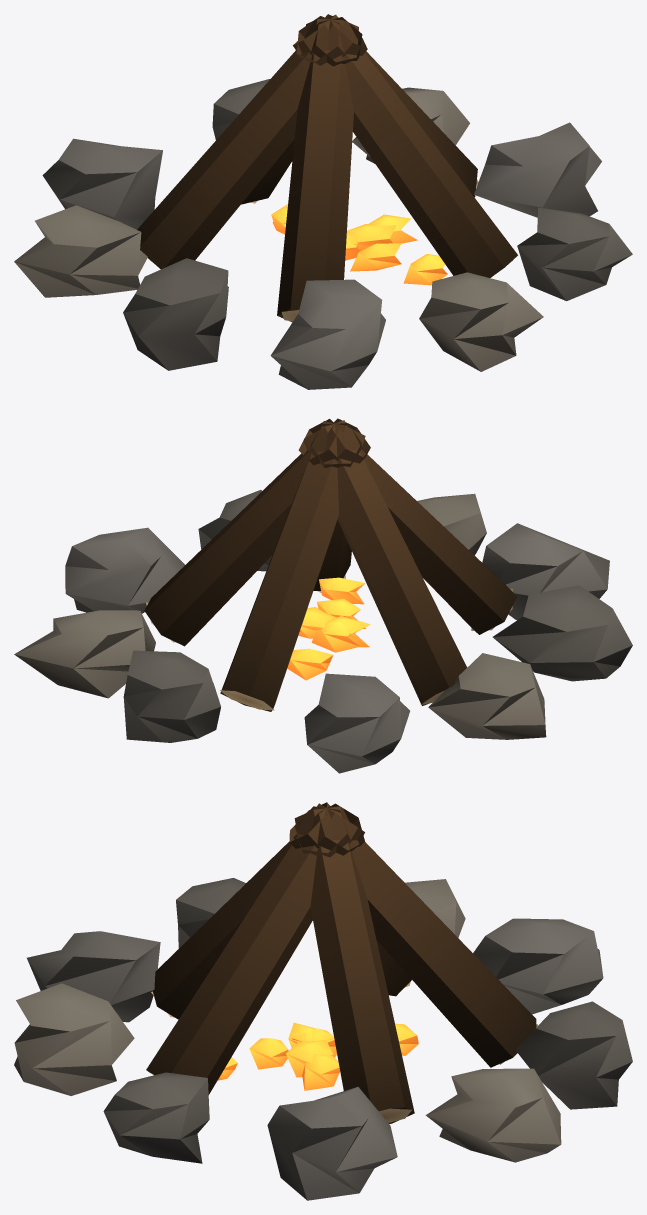
The model's file is campfire.glb.
The picture shows the model from 3 angles, top to bottom: view 1: azimuth 30°, elevation 25°; view 2: azimuth 150°, elevation 25°; view 3: azimuth 270°, elevation 25°; orthographic projection. The views are drawn at different scales.
Visible parts, largest first — view 1: campfire, campfire_glow; view 2: campfire, campfire_glow; view 3: campfire, campfire_glow.
Boxes of the visible parts, left/top/right/bottom form: campfire: left=14, top=14, right=632, bottom=389; campfire_glow: left=271, top=204, right=447, bottom=285; campfire: left=14, top=418, right=632, bottom=773; campfire_glow: left=287, top=577, right=370, bottom=680; campfire: left=14, top=802, right=632, bottom=1200; campfire_glow: left=217, top=1022, right=418, bottom=1090.
Size of the model in its own units: 1.06 by 0.4753 by 0.9948.
